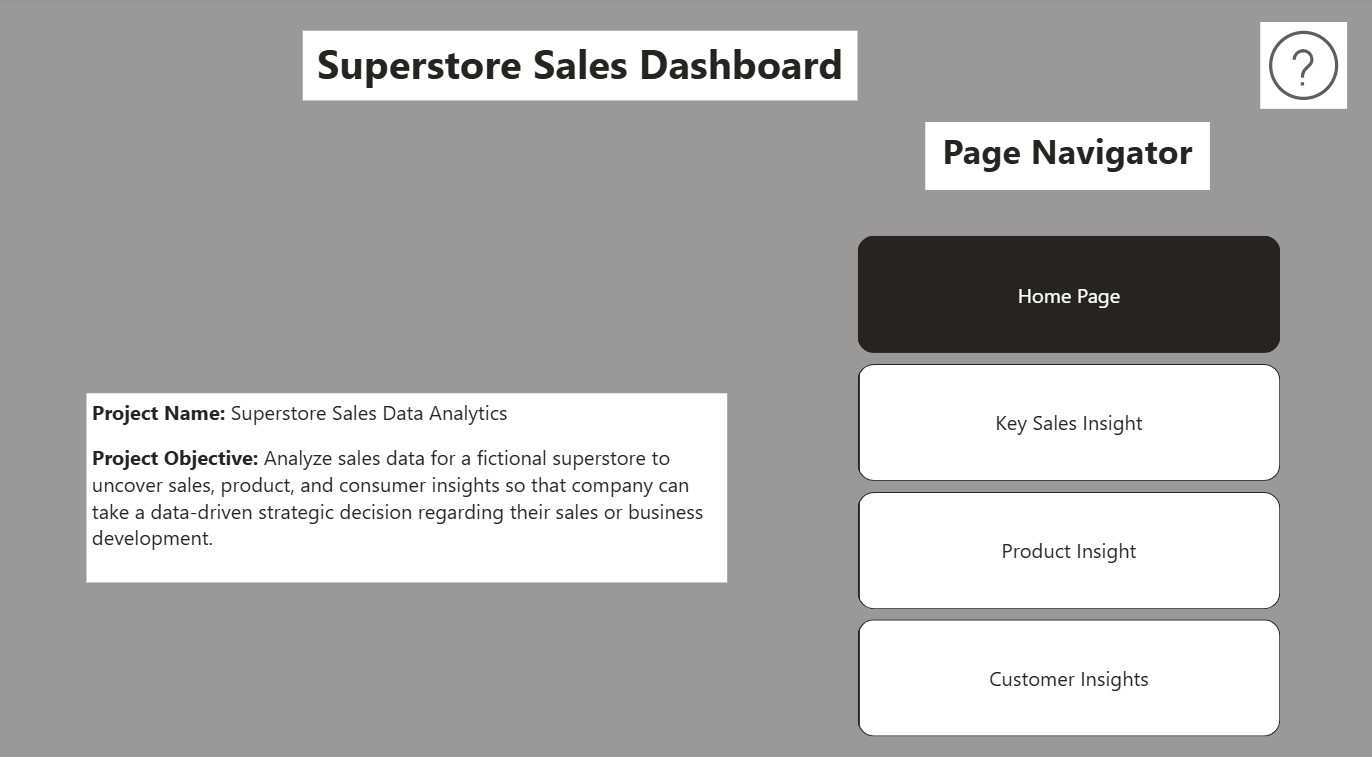

This screenshot's page, from the dashboard's own definition file:
{"tool":"powerbi","page":{"name":"Home Page","canvas":[1280,720],"ordinal":0},"visuals":[{"type":"pageNavigator","box":[798.3,221.8,393.3,468.7],"z":0},{"type":"textbox","box":[282.4,31,516,65],"z":1000},{"type":"actionButton","box":[1173,22.7,80.7,80.7],"z":2000},{"type":"textbox","box":[81.3,368.1,595.8,175.9],"z":3000},{"type":"textbox","box":[861.9,116.8,264.6,63.6],"z":4000}]}

Visuals, with their boxes in screenshot pixels (x1, y1, x2, y2), scaled from the page's 1280x720 canvas onto the 1372x757 screenshot:
pageNavigator: Rect(856, 233, 1277, 726)
textbox: Rect(303, 33, 856, 101)
actionButton: Rect(1257, 24, 1344, 109)
textbox: Rect(87, 387, 726, 572)
textbox: Rect(924, 123, 1207, 190)
